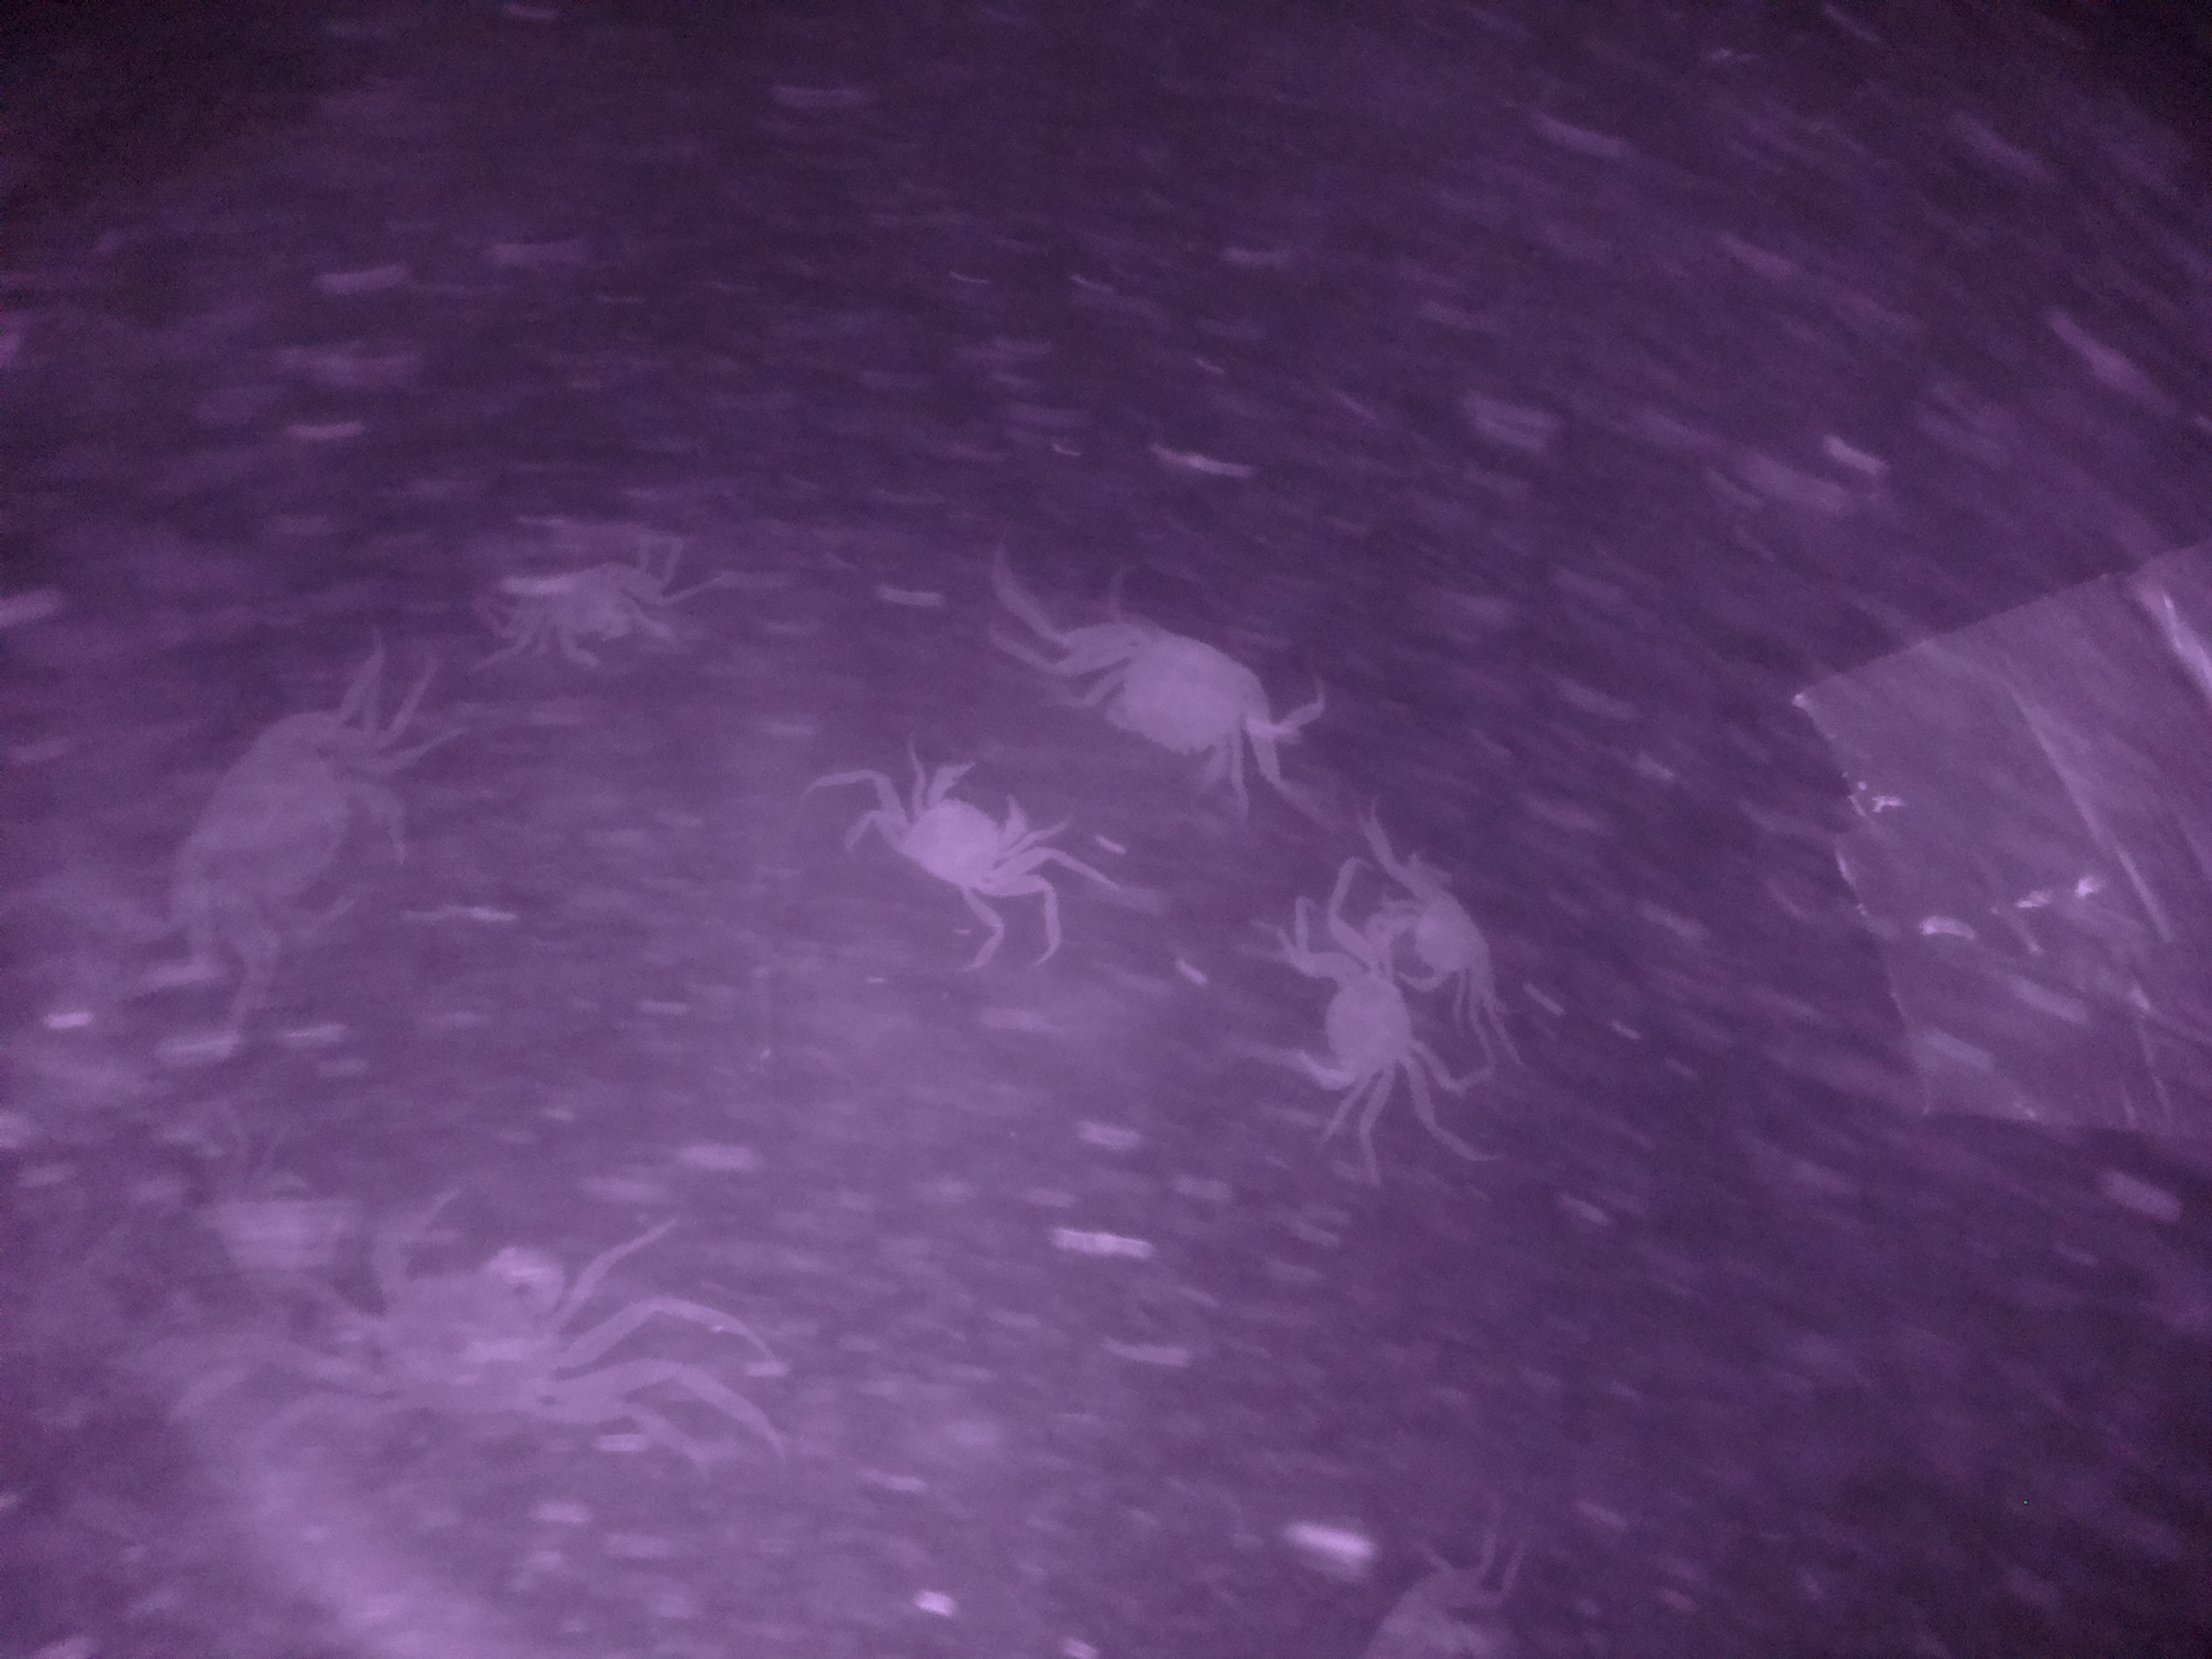Crab: (1068, 584, 1291, 802), (866, 751, 1052, 913), (1275, 936, 1435, 1110)
